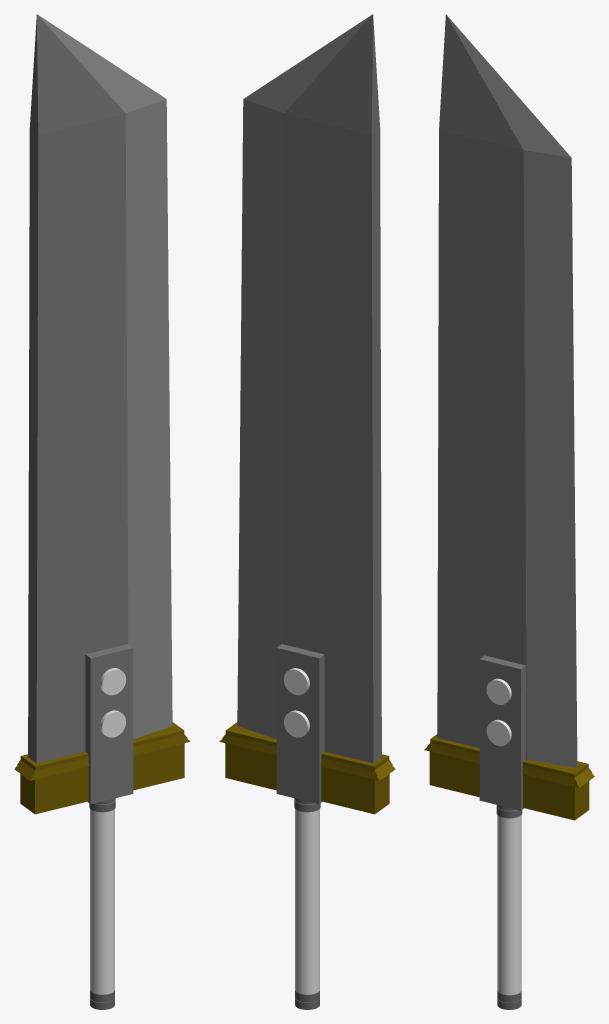
The model's file is Buster_Sword.fbx.
3 views of the same model, side by side, from view 1: azimuth 30°, elevation 25°; view 2: azimuth 150°, elevation 25°; view 3: azimuth 330°, elevation 25° (orthographic). The views are drawn at different scales.
Visible parts, largest first — view 1: Cube.001, Cube.002, Cube, Cylinder.001, Cylinder.002, Cylinder; view 2: Cube.001, Cube.002, Cube, Cylinder.001, Cylinder.002, Cylinder; view 3: Cube.001, Cube.002, Cube, Cylinder.001, Cylinder.002, Cylinder.
Part boxes in pixels (box(x1,y1,x2,y2)): Cube.001: box(28, 14, 133, 804); Cube.002: box(37, 14, 172, 739); Cube: box(14, 722, 190, 814); Cylinder.001: box(90, 809, 114, 994); Cylinder.002: box(100, 668, 126, 737); Cylinder: box(89, 798, 115, 1009); Cube.001: box(276, 14, 381, 804); Cube.002: box(237, 14, 372, 739); Cube: box(219, 722, 395, 814); Cylinder.001: box(295, 809, 319, 994); Cylinder.002: box(283, 668, 309, 737); Cylinder: box(294, 798, 320, 1009); Cube.001: box(437, 14, 526, 810); Cube.002: box(446, 15, 577, 767); Cube: box(424, 734, 594, 820); Cylinder.001: box(497, 815, 521, 995); Cylinder.002: box(486, 678, 511, 746); Cylinder: box(496, 805, 522, 1009).
Bounding box in the file's own units: 25.4 × 152 × 6.44.
